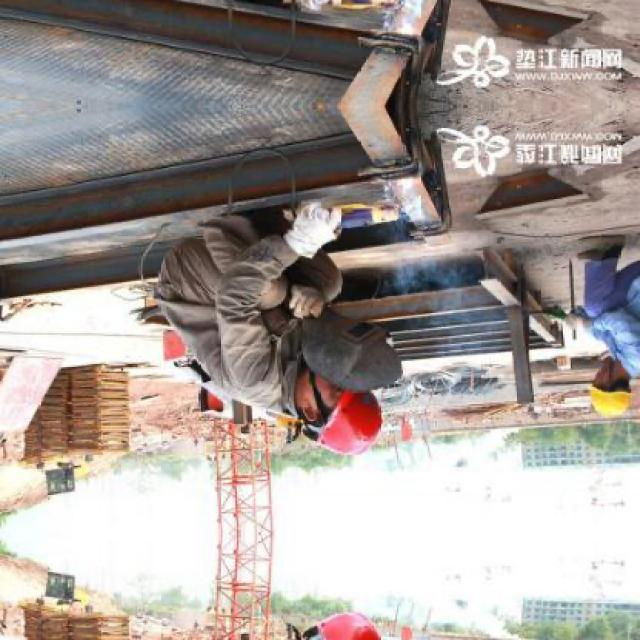con casco: (206, 360, 394, 456), (558, 370, 640, 425)
